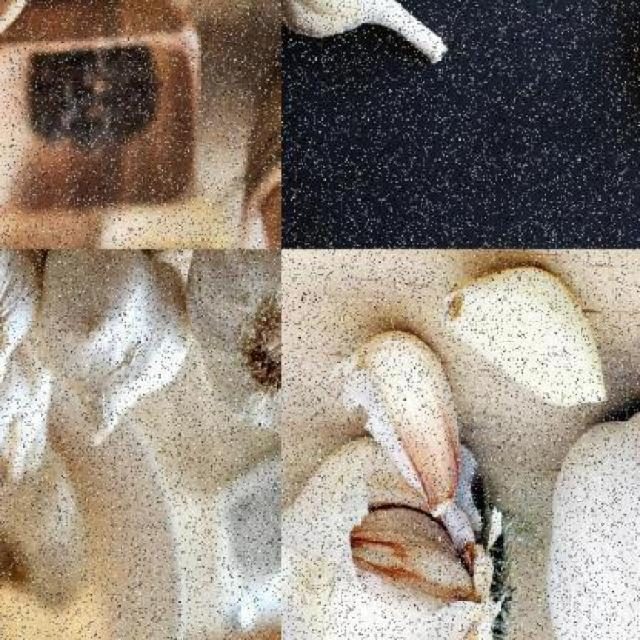garlic: (280, 438, 514, 639), (24, 249, 198, 449), (438, 260, 612, 406), (336, 324, 469, 513), (179, 249, 279, 446), (280, 0, 446, 66)
